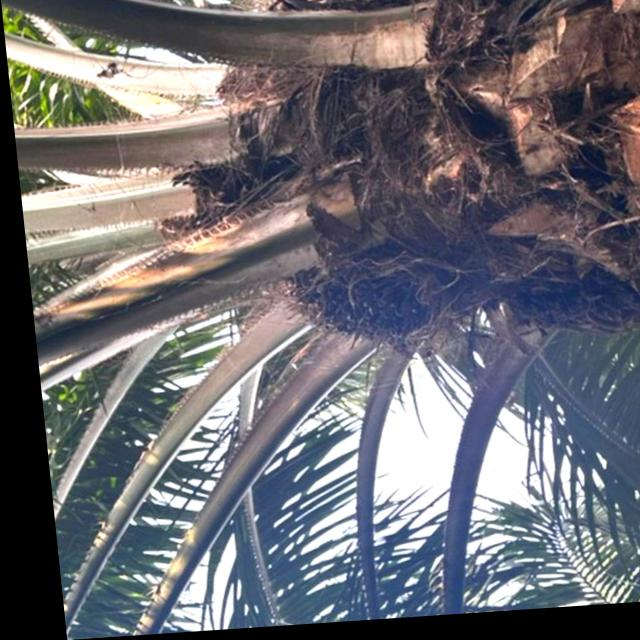unripe: (266, 233, 454, 379)
